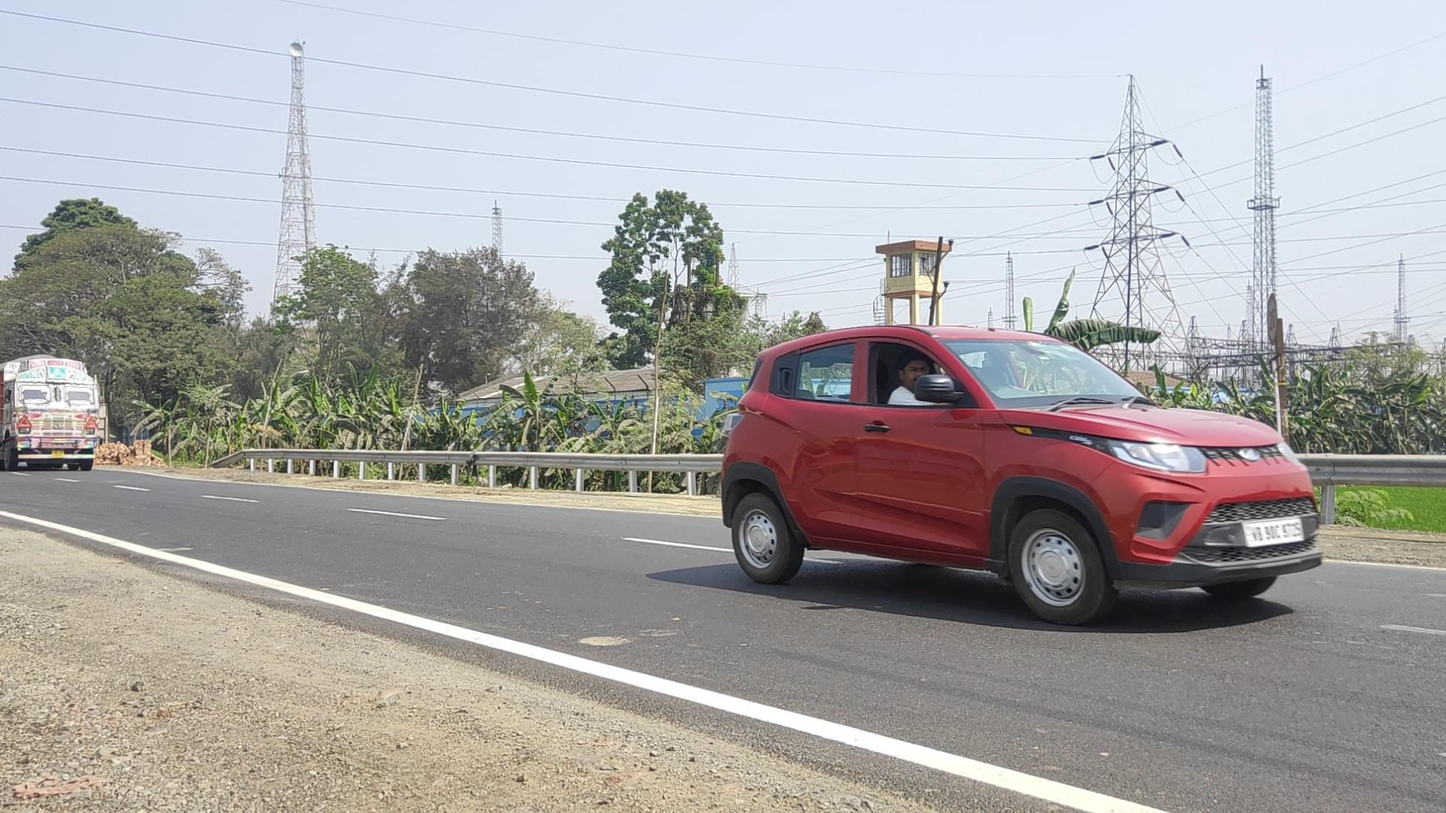car: (721, 324, 1322, 626)
truck: (1, 355, 100, 473)
